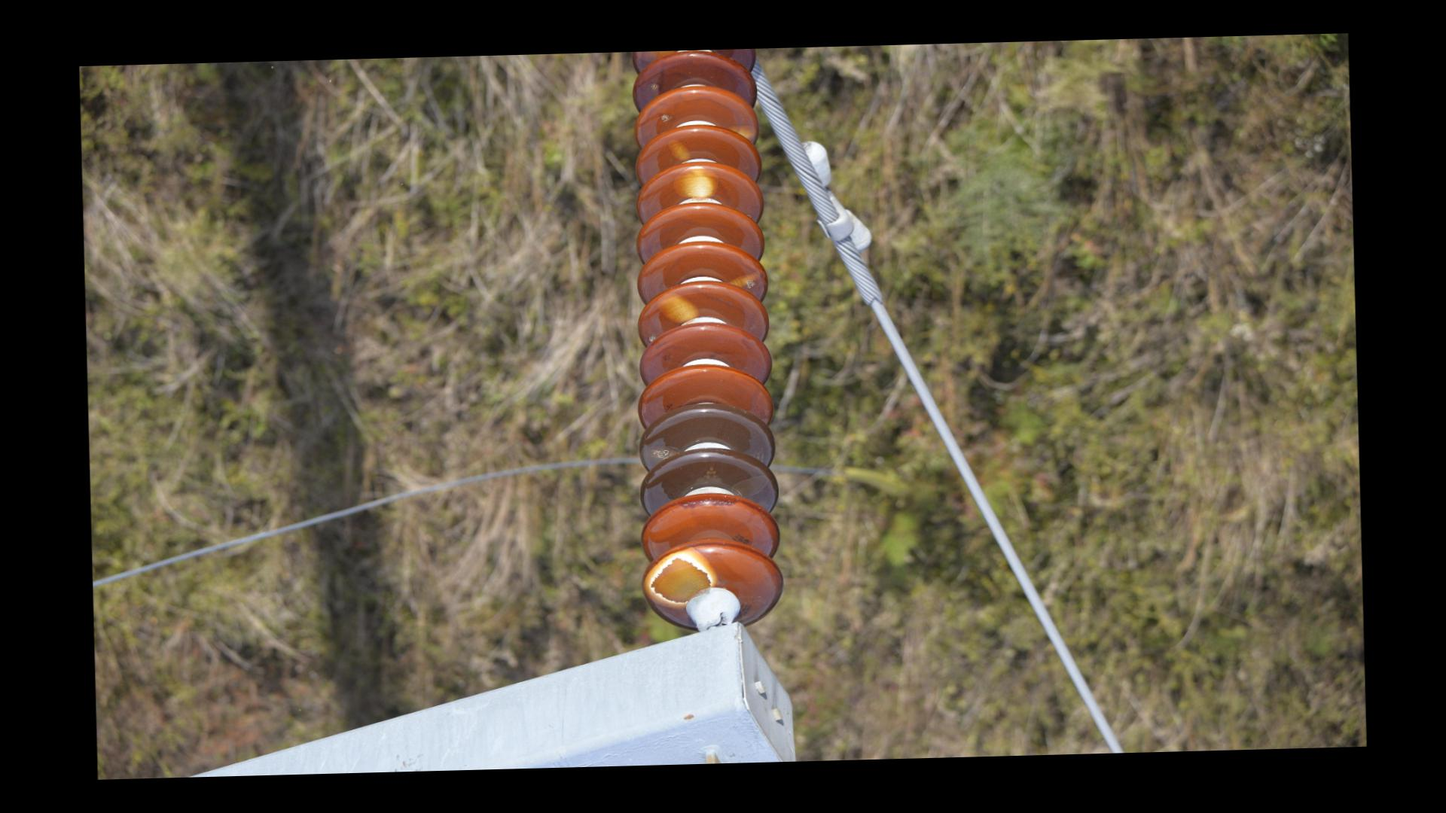damper: (795, 133, 876, 260)
